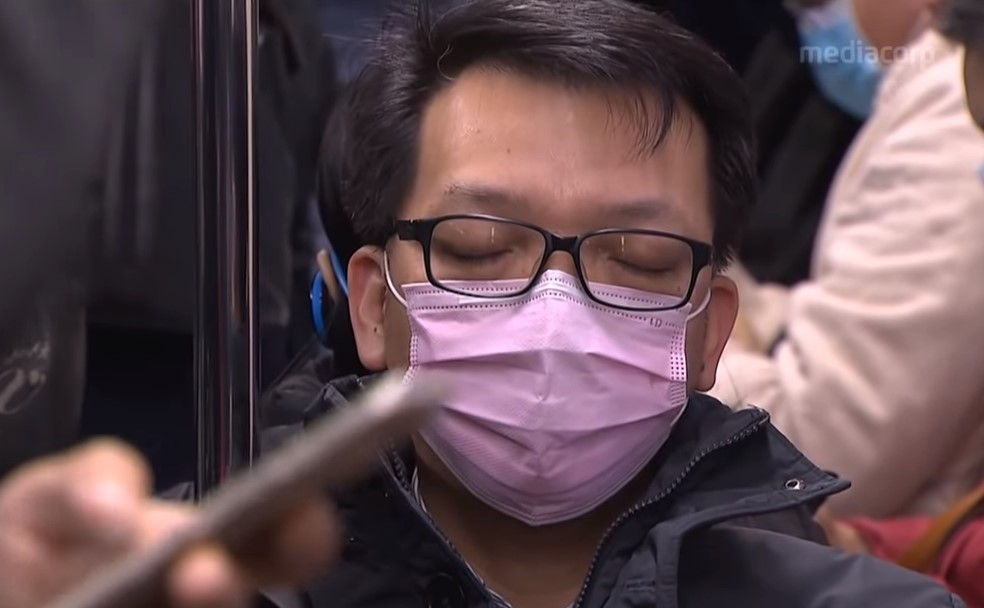face_with_mask: (348, 4, 744, 528)
